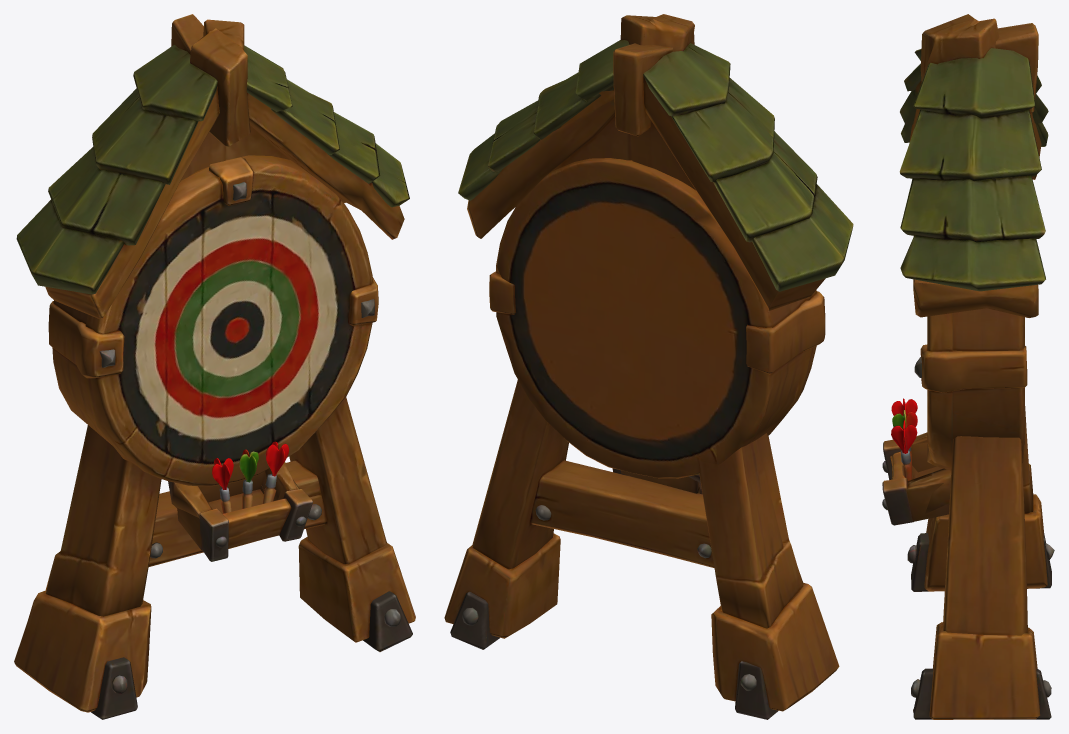
File: jardin_cible2.glb
The picture shows the model from 3 angles, left to right: view 1: azimuth 30°, elevation 25°; view 2: azimuth 150°, elevation 25°; view 3: azimuth 270°, elevation 25°; orthographic projection.
Parts seen in each view (by area): view 1: geometry_0; view 2: geometry_0; view 3: geometry_0.
Boxes of the visible parts, x1,y1,x2,y2 form: geometry_0: (14, 14, 415, 719); geometry_0: (444, 14, 853, 719); geometry_0: (882, 14, 1054, 719).
Bounding box in the file's own units: 0.5787 × 0.9521 × 0.2368.
Materials: 1 (1 with a texture image).
